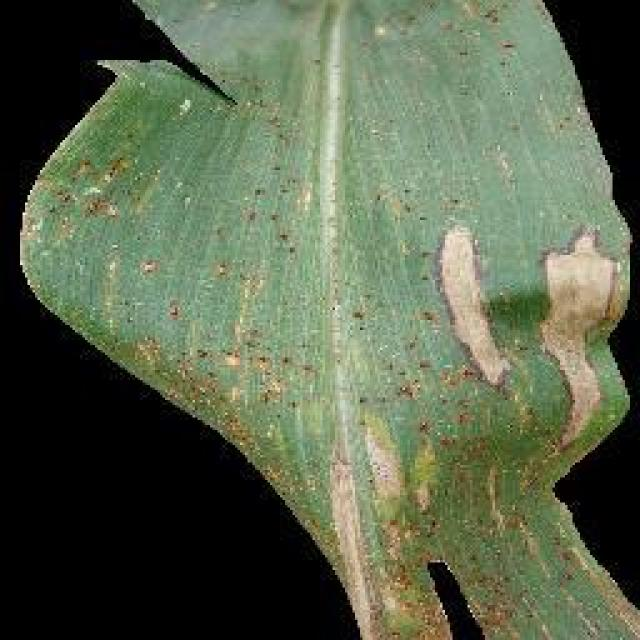Corn Common Rust: (133, 130, 435, 560)
